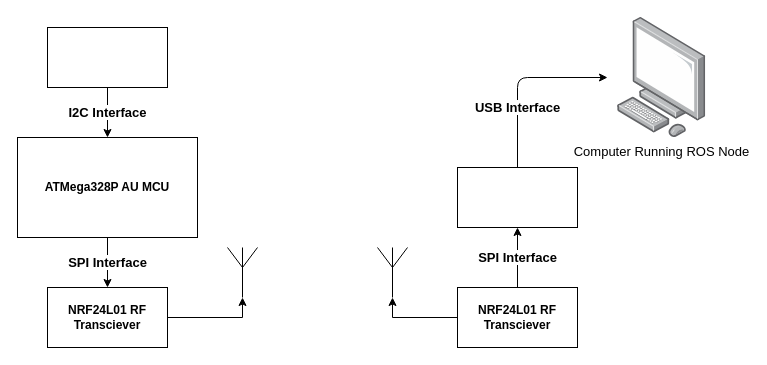
This 767x365 diagram has some shape labels left out. Each missing label, with the box of its shape:
Arduino Nano: (456, 166, 578, 228)
BNO055 Absolute Orientation Sensor: (46, 26, 168, 88)
